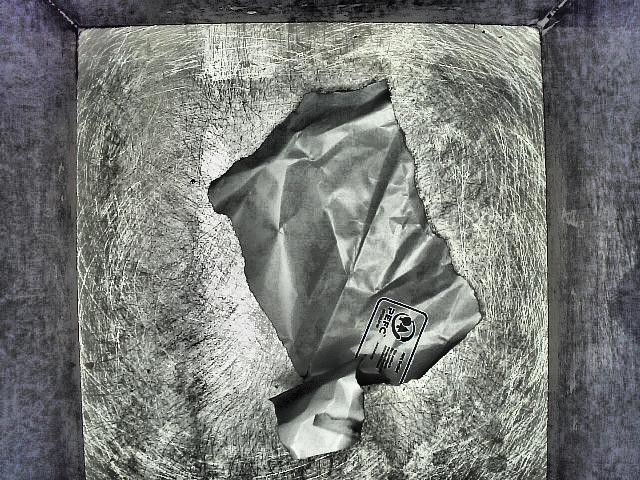Paper: (202, 67, 493, 467)
